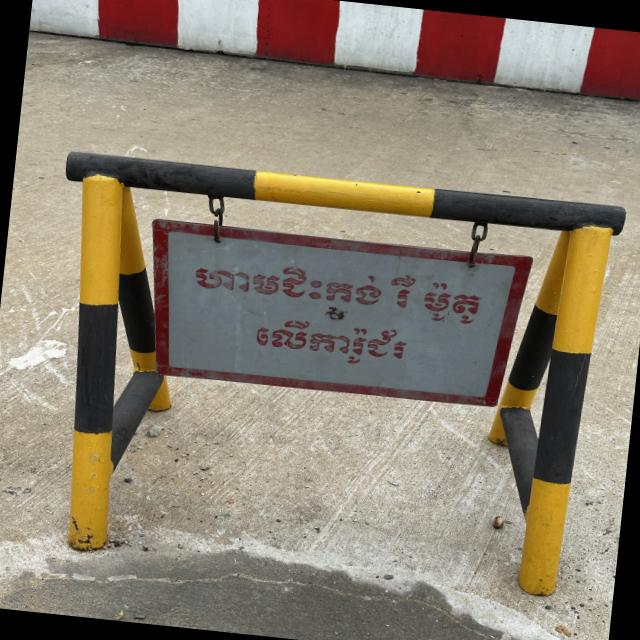2: (187, 253, 494, 330)
Yolov11_80vkh: (238, 315, 422, 370)
